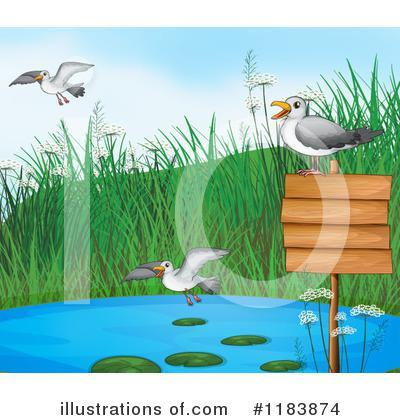bird: (259, 91, 387, 180), (116, 245, 229, 310), (11, 57, 93, 105)
